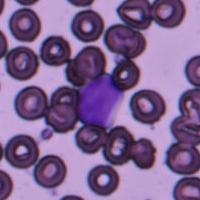L: (78, 72, 125, 127)
